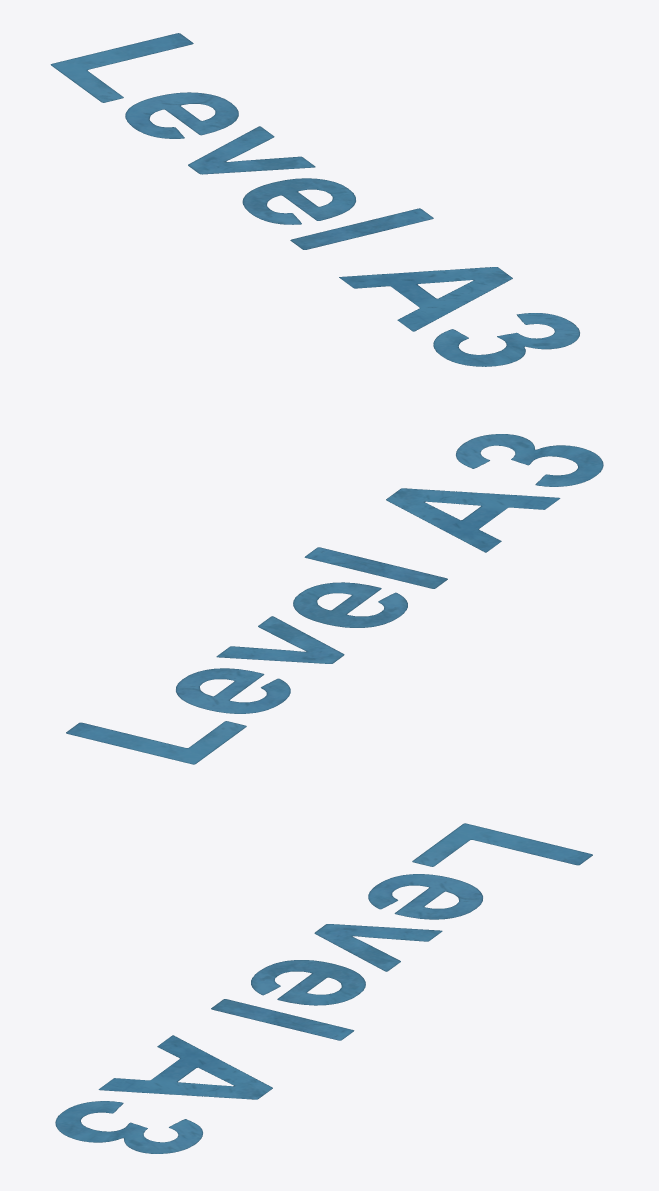
File: HH_Decal_Level_A3.fbx
3 views of the same model, one above another, from view 1: azimuth 30°, elevation 25°; view 2: azimuth 150°, elevation 25°; view 3: azimuth 330°, elevation 25° (orthographic).
Visible parts, largest first — view 1: HH_Decal_Level_A3; view 2: HH_Decal_Level_A3; view 3: HH_Decal_Level_A3.
Boxes of the visible parts, bbox=[...] form: HH_Decal_Level_A3: bbox=[50, 33, 579, 366]; HH_Decal_Level_A3: bbox=[66, 434, 603, 764]; HH_Decal_Level_A3: bbox=[55, 823, 592, 1153].
Bounding box in the file's own units: 37.69 × 0 × 151.
